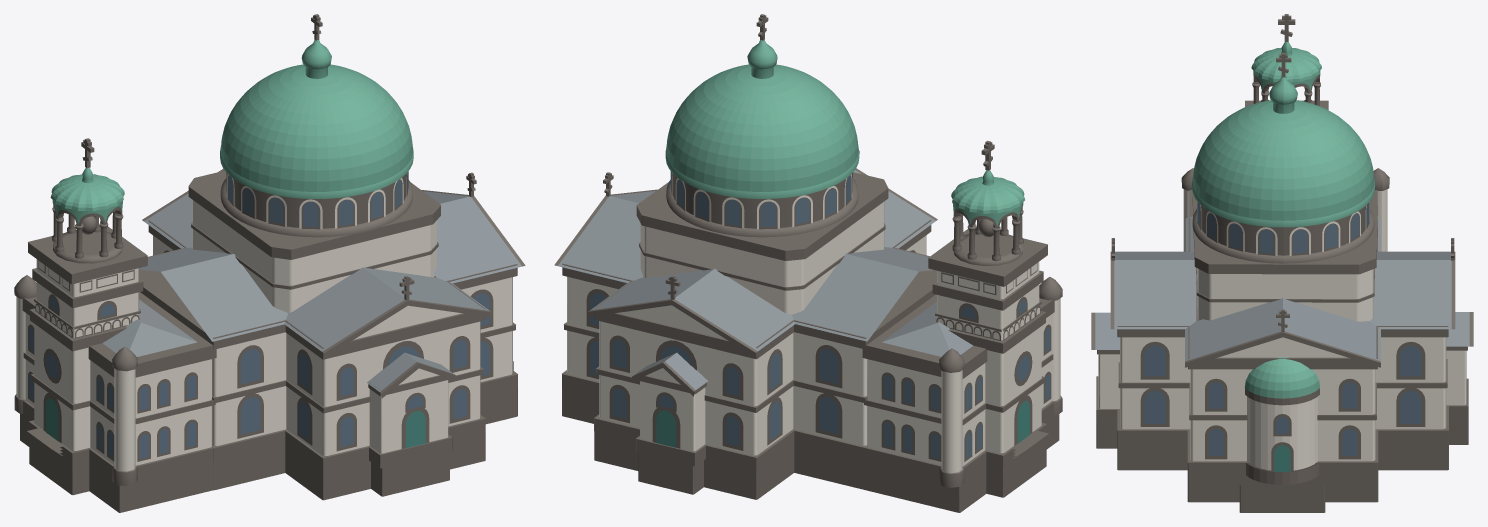
File: tokyo-nikolai-cathedral.detail.glb
3 renders of one model, left to right at view 1: azimuth 30°, elevation 25°; view 2: azimuth 150°, elevation 25°; view 3: azimuth 270°, elevation 25°, orthographic. The views are drawn at different scales.
Visible parts, largest first — view 1: Holy Resurrection Cathedral (Nikolai-dō); view 2: Holy Resurrection Cathedral (Nikolai-dō); view 3: Holy Resurrection Cathedral (Nikolai-dō).
Boxes of the visible parts, x1,y1,x2,y2 form: Holy Resurrection Cathedral (Nikolai-dō): (14,14,525,512); Holy Resurrection Cathedral (Nikolai-dō): (554,14,1062,512); Holy Resurrection Cathedral (Nikolai-dō): (1091,14,1473,512).
Size of the model in its own units: 45.9 by 39.1 by 35.7.
